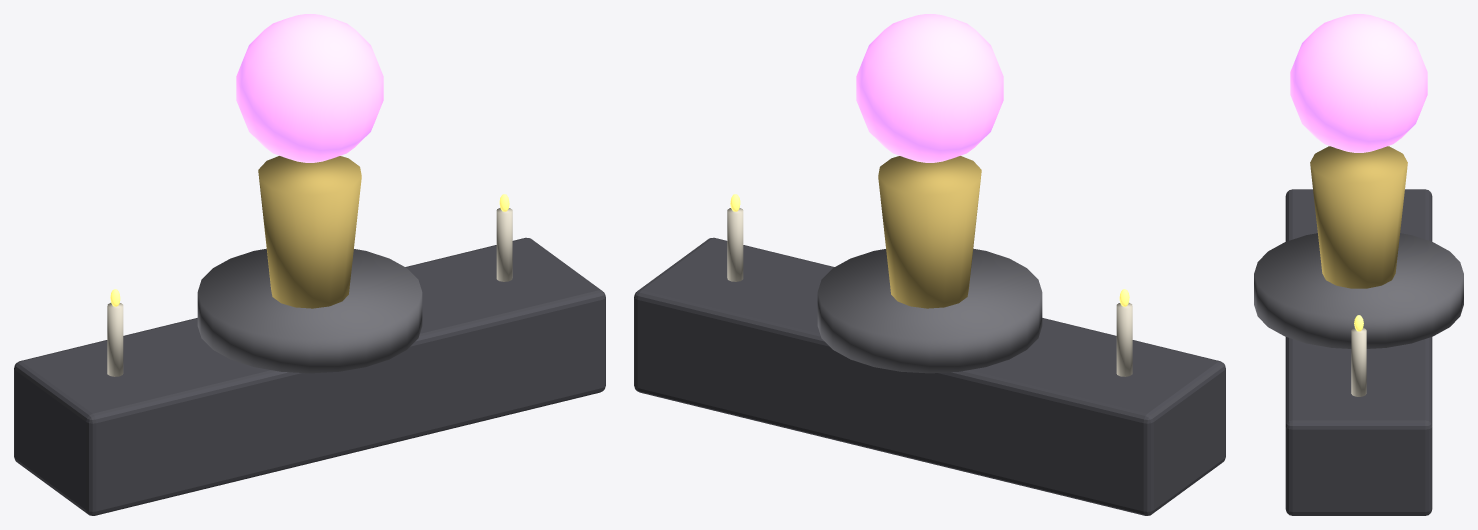
File: focus_stand_crystal_dais.glb
3 views of the same model, side by side, from view 1: azimuth 30°, elevation 25°; view 2: azimuth 150°, elevation 25°; view 3: azimuth 270°, elevation 25° (orthographic). The views are drawn at different scales.
Parts seen in each view (by area): view 1: GD_focus_stand_crystal_dais__m0, GD_focus_stand_crystal_dais__m1, GD_focus_stand_crystal_dais__m3, GD_focus_stand_crystal_dais__m2, GD_focus_stand_crystal_dais__m4; view 2: GD_focus_stand_crystal_dais__m0, GD_focus_stand_crystal_dais__m1, GD_focus_stand_crystal_dais__m3, GD_focus_stand_crystal_dais__m2, GD_focus_stand_crystal_dais__m4; view 3: GD_focus_stand_crystal_dais__m0, GD_focus_stand_crystal_dais__m1, GD_focus_stand_crystal_dais__m3, GD_focus_stand_crystal_dais__m2, GD_focus_stand_crystal_dais__m4.
Boxes of the visible parts, x1,y1,x2,y2 form: GD_focus_stand_crystal_dais__m0: [14, 237, 605, 515]; GD_focus_stand_crystal_dais__m1: [197, 248, 422, 373]; GD_focus_stand_crystal_dais__m3: [236, 14, 383, 162]; GD_focus_stand_crystal_dais__m2: [258, 156, 361, 308]; GD_focus_stand_crystal_dais__m4: [107, 208, 512, 376]; GD_focus_stand_crystal_dais__m0: [634, 237, 1225, 515]; GD_focus_stand_crystal_dais__m1: [817, 248, 1042, 373]; GD_focus_stand_crystal_dais__m3: [856, 14, 1003, 162]; GD_focus_stand_crystal_dais__m2: [878, 156, 981, 308]; GD_focus_stand_crystal_dais__m4: [727, 208, 1132, 376]; GD_focus_stand_crystal_dais__m0: [1285, 189, 1432, 515]; GD_focus_stand_crystal_dais__m1: [1254, 233, 1463, 348]; GD_focus_stand_crystal_dais__m3: [1290, 14, 1427, 152]; GD_focus_stand_crystal_dais__m2: [1310, 146, 1407, 288]; GD_focus_stand_crystal_dais__m4: [1351, 328, 1366, 396].
Size of the model in its own units: 1.6 by 1.2 by 0.6.
